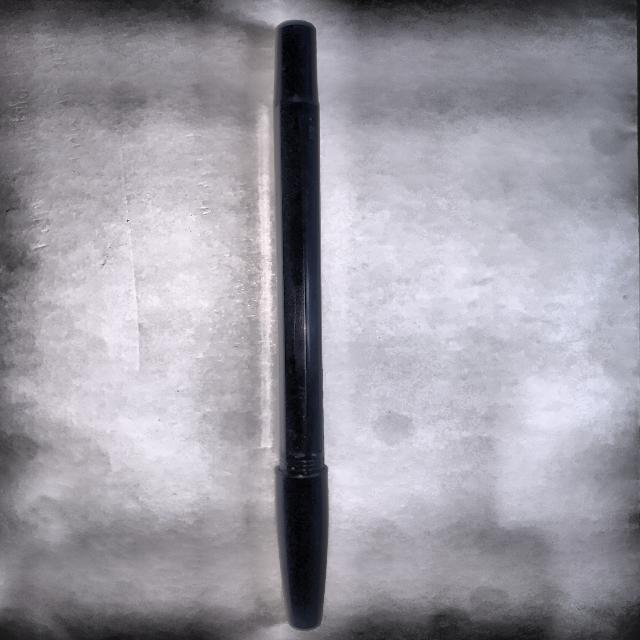Pulpen: (256, 16, 366, 632)
